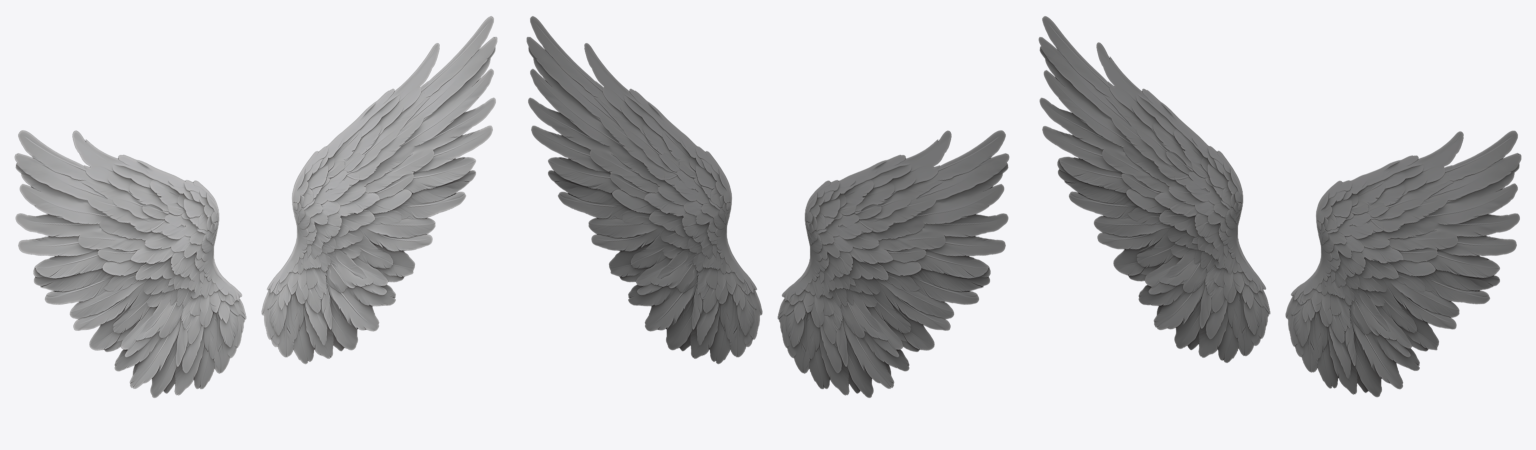
The model's file is Wings.glb.
3 renders of one model, left to right at view 1: azimuth 30°, elevation 25°; view 2: azimuth 150°, elevation 25°; view 3: azimuth 330°, elevation 25°, orthographic.
Parts seen in each view (by area): view 1: LW_01 - Default_0, RW_01 - Default_0; view 2: LW_01 - Default_0, RW_01 - Default_0; view 3: LW_01 - Default_0, RW_01 - Default_0.
Part boxes in pixels (x1=…): LW_01 - Default_0: x1=14, y1=130, x2=246, y2=397; RW_01 - Default_0: x1=261, y1=16, x2=497, y2=363; LW_01 - Default_0: x1=777, y1=130, x2=1009, y2=397; RW_01 - Default_0: x1=526, y1=16, x2=762, y2=363; LW_01 - Default_0: x1=1038, y1=16, x2=1270, y2=362; RW_01 - Default_0: x1=1285, y1=130, x2=1521, y2=397.
Size of the model in its own units: 1.81 by 1.09 by 0.0014.
1 material, 1 textured.
